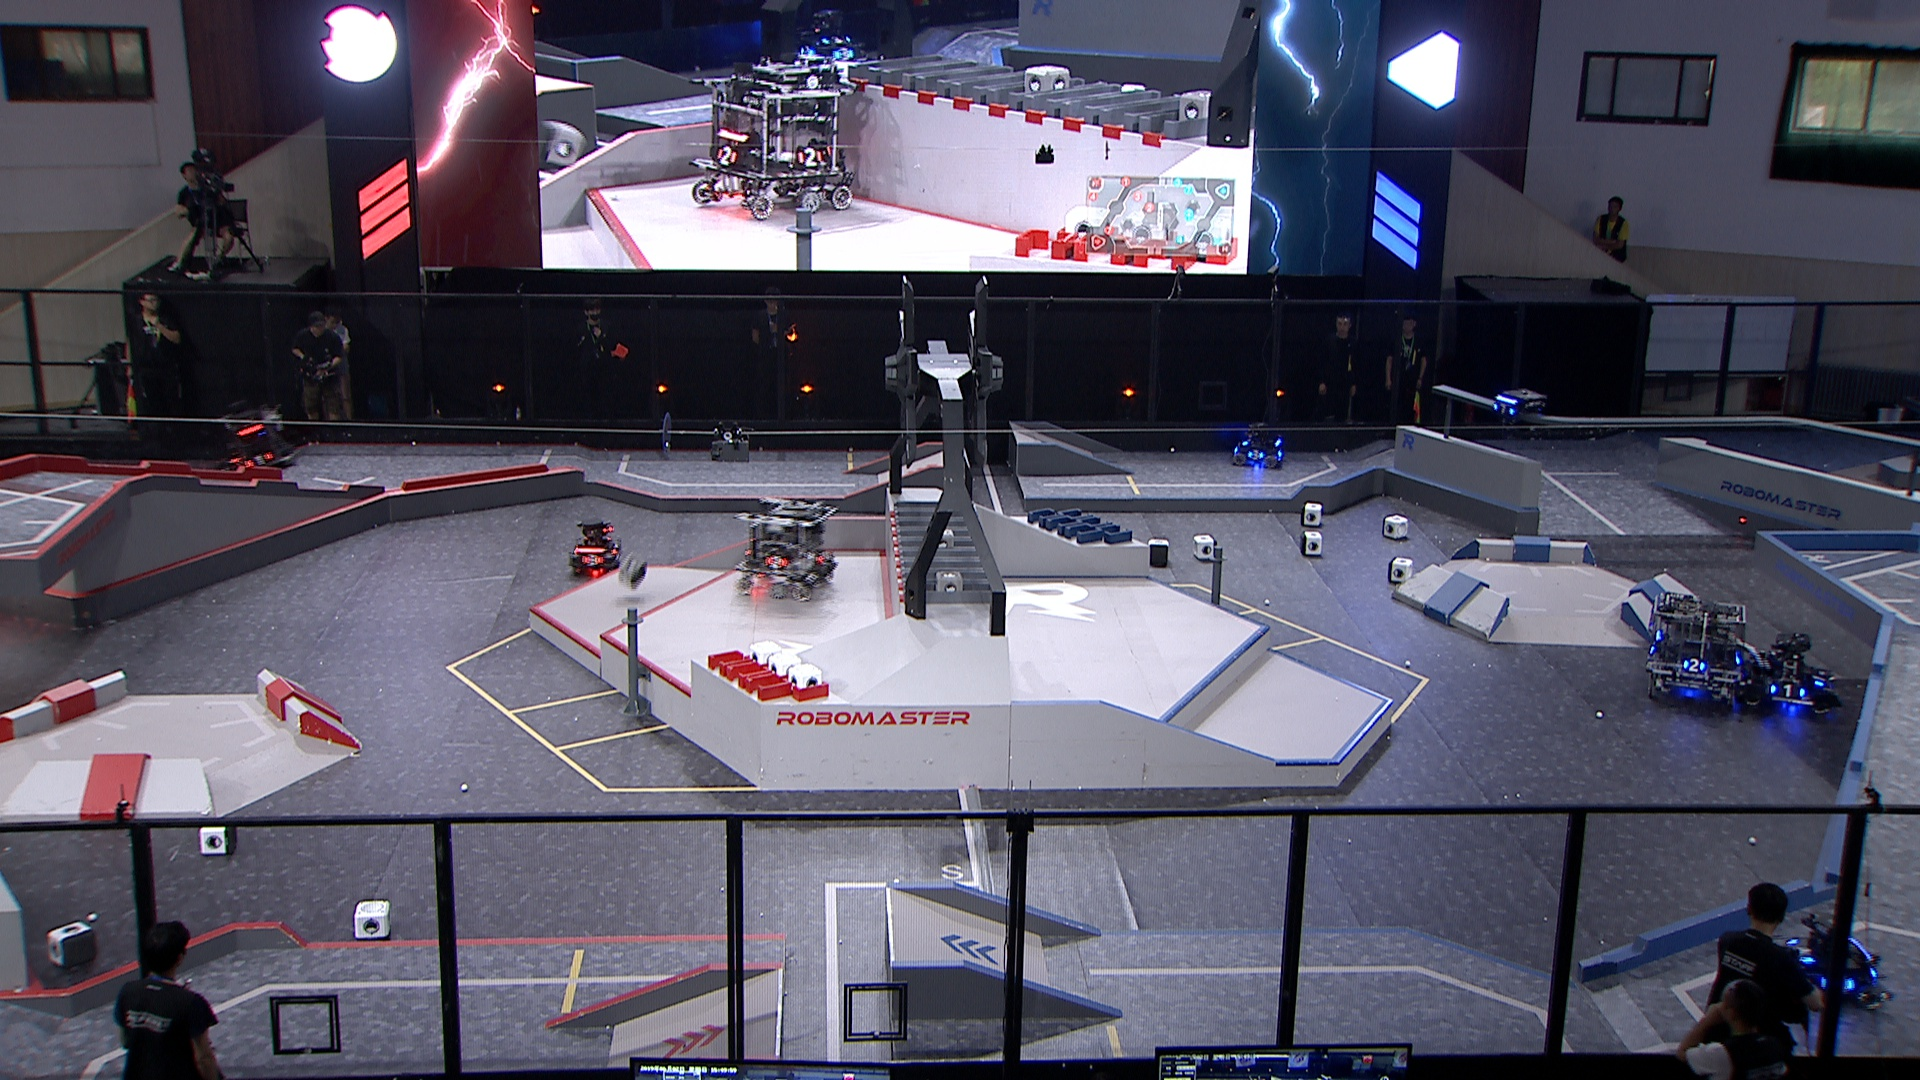armor: (1787, 936, 1817, 968), (1768, 680, 1807, 702), (244, 451, 276, 469), (1491, 400, 1519, 419), (1811, 669, 1832, 692), (1681, 655, 1705, 675), (808, 549, 831, 567), (765, 553, 789, 570), (582, 553, 604, 568), (1247, 447, 1263, 462)
car: (1642, 589, 1750, 708), (731, 491, 843, 603), (1779, 909, 1894, 1017), (1731, 629, 1844, 716), (216, 400, 297, 476), (564, 516, 621, 579), (1232, 419, 1284, 472)
ignore: (690, 55, 860, 224), (785, 7, 880, 76)
watcher: (1485, 380, 1549, 438)
